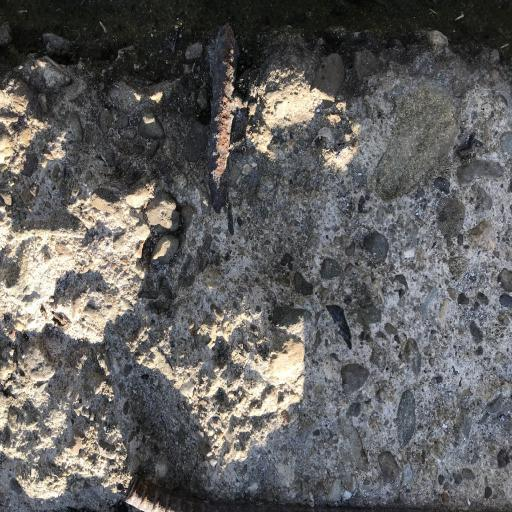exposed_rebar: (125, 475, 432, 512), (209, 23, 238, 212)
